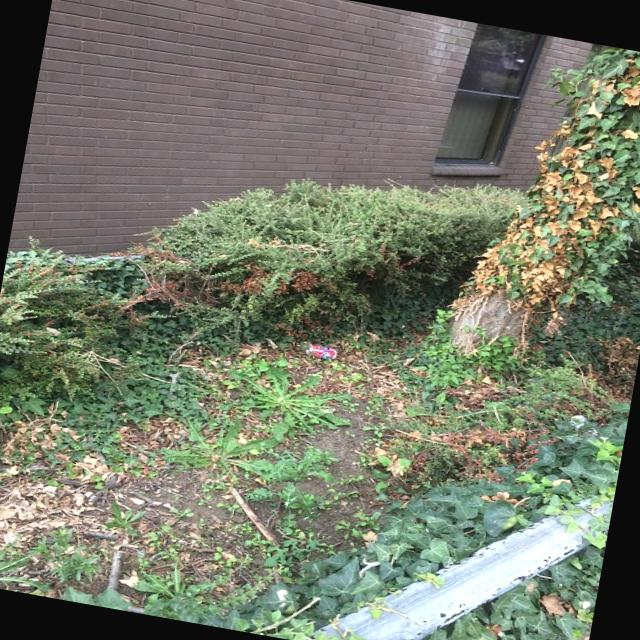Recycle: (301, 340, 339, 364)
